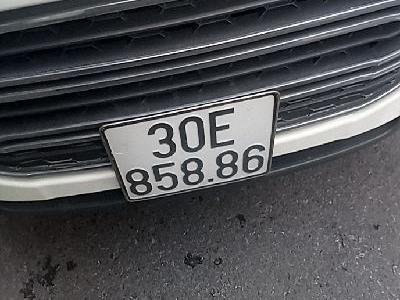car: (99, 89, 281, 203)
